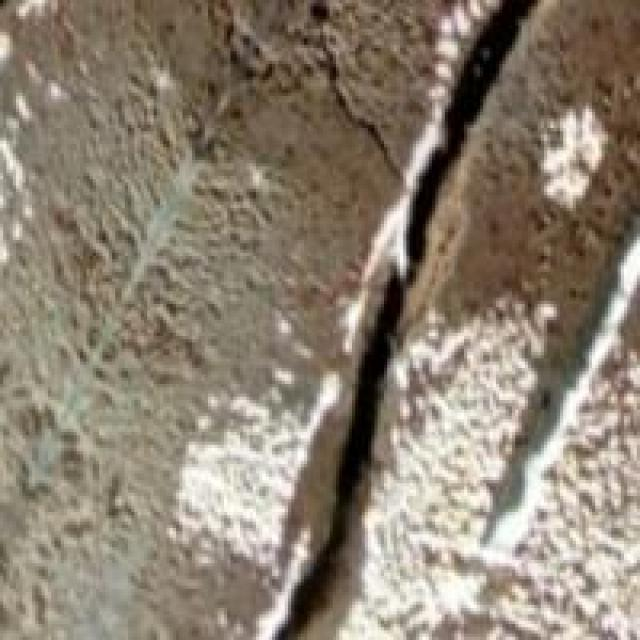Crack: (253, 0, 592, 637)
